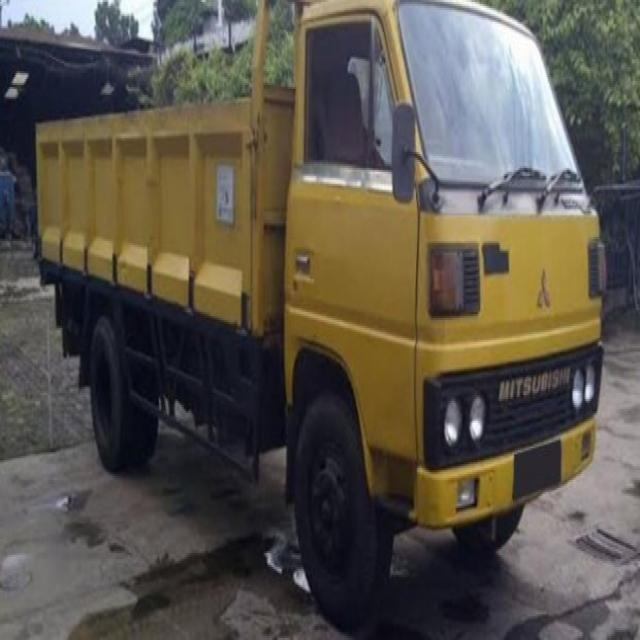Truck: (36, 0, 609, 591)
